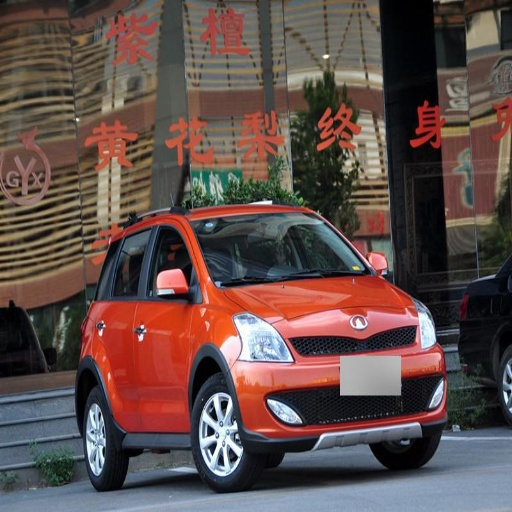front_bumper: (233, 326, 435, 446)
front_right_door: (133, 219, 198, 425)
front_right_light: (234, 314, 292, 363)
hood: (225, 275, 419, 340)
